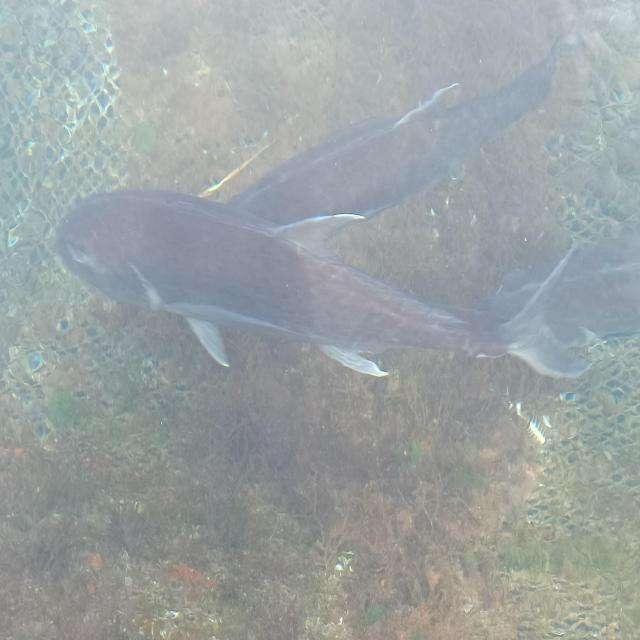ikan: (54, 28, 601, 382), (216, 27, 574, 226)
